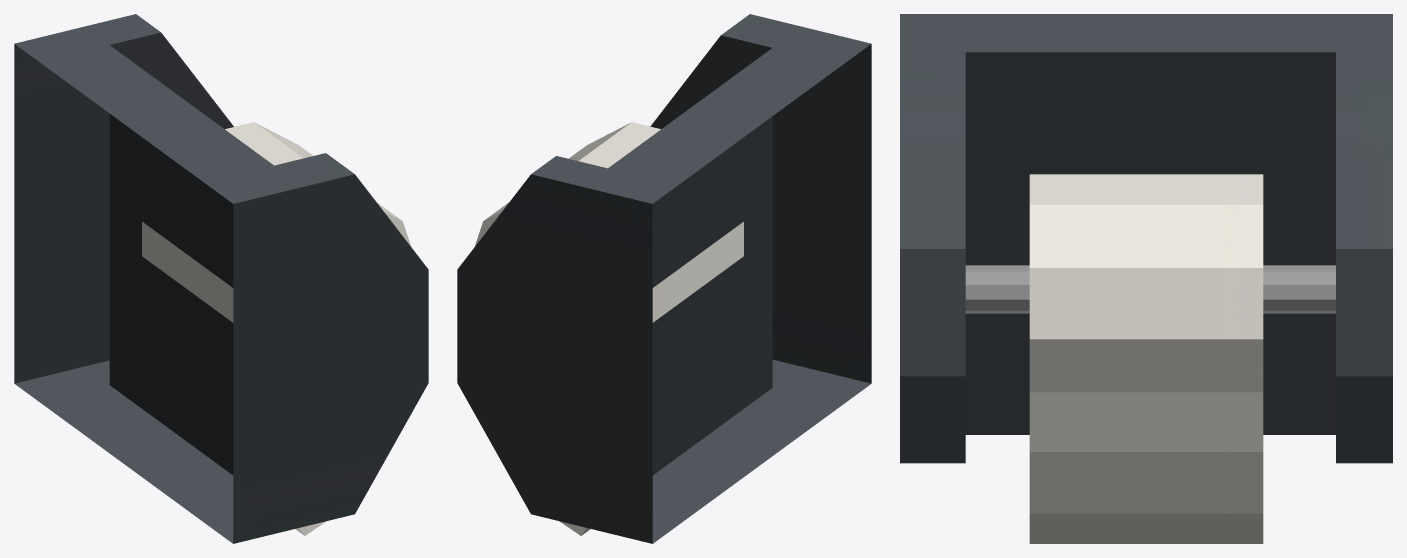
The model's file is Toilet Roll.fbx.
3 views of the same model, side by side, from view 1: azimuth 30°, elevation 25°; view 2: azimuth 150°, elevation 25°; view 3: azimuth 270°, elevation 25° (orthographic). The views are drawn at different scales.
Visible parts, largest first — view 1: ToiletRoll; view 2: ToiletRoll; view 3: ToiletRoll.
Part boxes in pixels (x1,y1,x2,y2): ToiletRoll: (14,14,428,543); ToiletRoll: (457,14,871,543); ToiletRoll: (900,14,1392,543).
Bounding box in the file's own units: 121 × 193 × 188.
